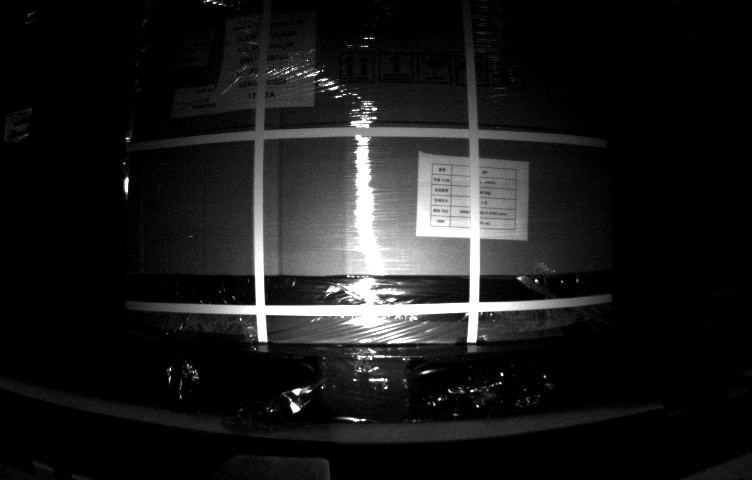True Barcode: (165, 35, 213, 63)
